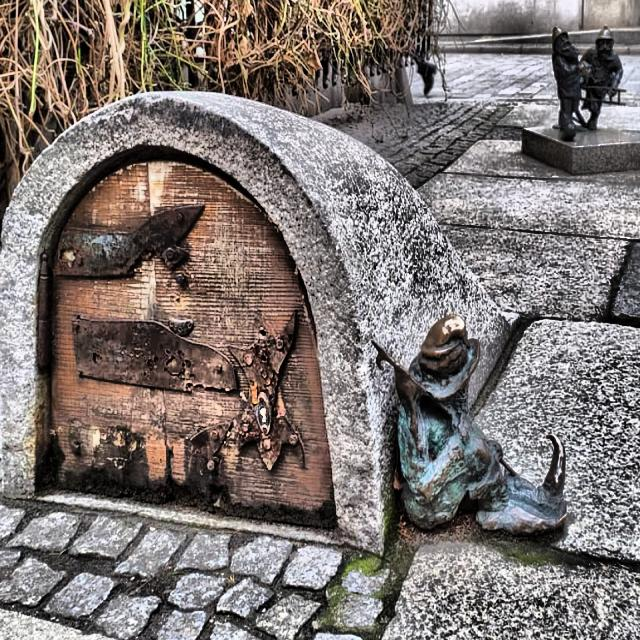Spioch: (376, 313, 566, 535)
